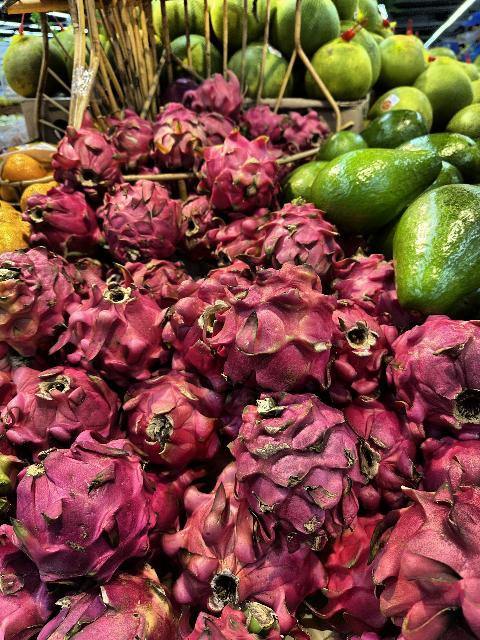buah-naga-belum-matang: (171, 474, 311, 614), (366, 474, 480, 636), (209, 272, 340, 382), (0, 243, 88, 354), (52, 564, 178, 640), (198, 136, 280, 212), (122, 249, 194, 299), (154, 101, 206, 160), (98, 113, 152, 159)
buah-naga-matang: (222, 382, 358, 550), (0, 436, 158, 568), (5, 353, 120, 445), (116, 368, 218, 468), (384, 332, 480, 428), (66, 286, 168, 372), (338, 397, 414, 507), (326, 289, 398, 399), (96, 178, 186, 258), (17, 188, 103, 258), (272, 200, 340, 282), (333, 249, 395, 307), (55, 133, 116, 191), (204, 219, 266, 263)
